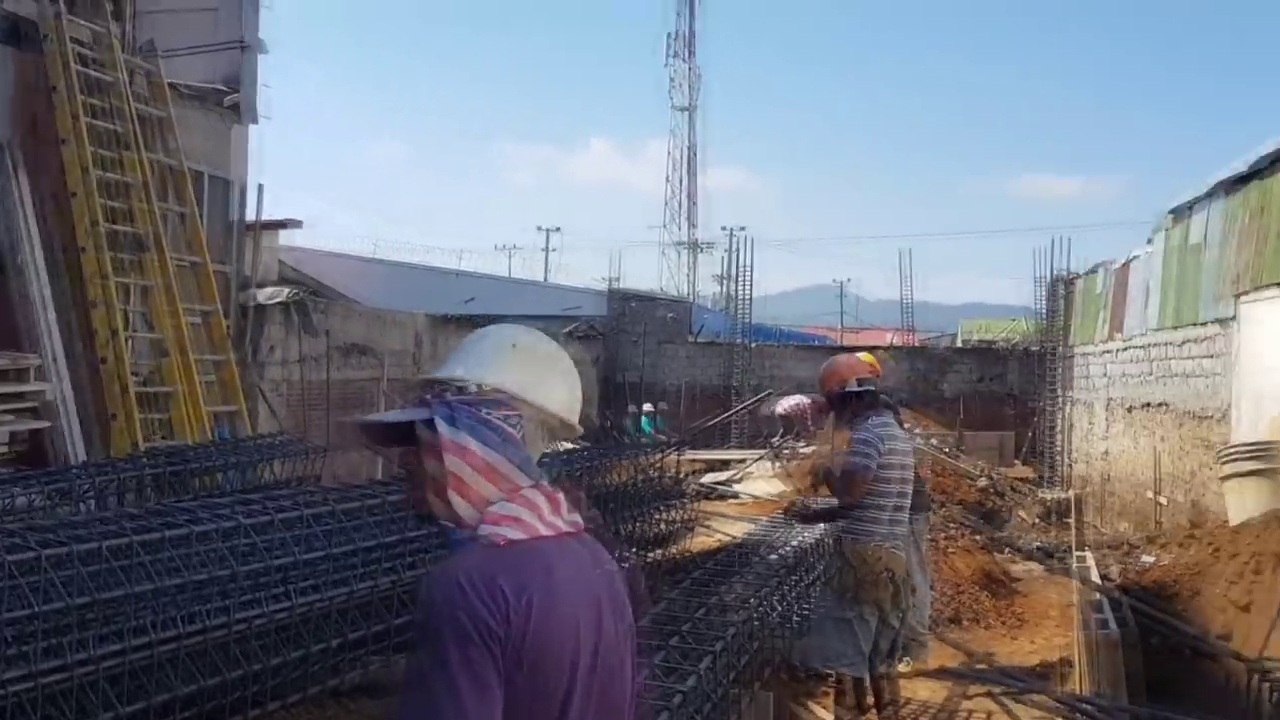helmet: (431, 331, 573, 456), (817, 357, 891, 404), (641, 404, 654, 413)
helmet-on: (373, 329, 588, 536), (813, 346, 890, 434), (640, 403, 655, 418)
person: (360, 316, 642, 720), (783, 348, 919, 720), (639, 404, 657, 440)
